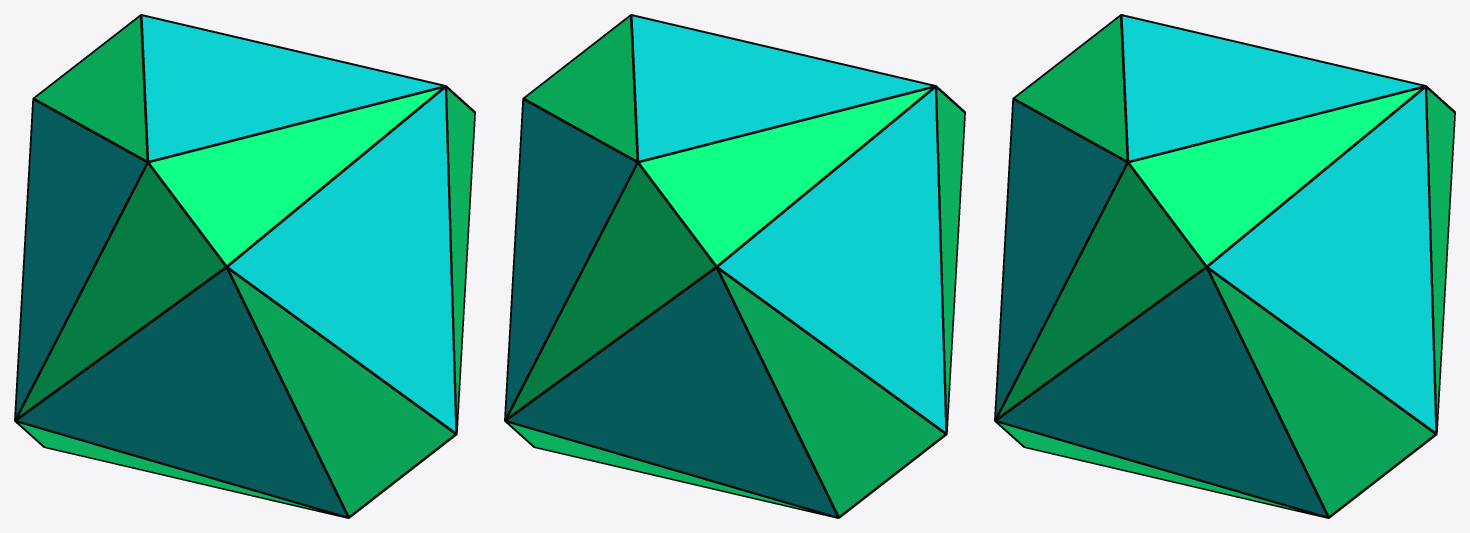
File: quiz_119.dae
3 renders of one model, left to right at view 1: azimuth 30°, elevation 25°; view 2: azimuth 150°, elevation 25°; view 3: azimuth 270°, elevation 25°, orthographic.
Parts seen in each view (by area): view 1: visgeom_0, geometry_edges0_0_quiz_119.off; view 2: visgeom_0, geometry_edges0_0_quiz_119.off; view 3: visgeom_0, geometry_edges0_0_quiz_119.off.
Part boxes in pixels (box(x1,y1,x2,y2)): visgeom_0: box(16, 16, 474, 515); geometry_edges0_0_quiz_119.off: box(14, 14, 475, 518); visgeom_0: box(506, 16, 964, 515); geometry_edges0_0_quiz_119.off: box(504, 14, 965, 518); visgeom_0: box(996, 16, 1454, 515); geometry_edges0_0_quiz_119.off: box(994, 14, 1455, 518).
Size of the model in its own units: 1.88 by 1.69 by 1.45.
